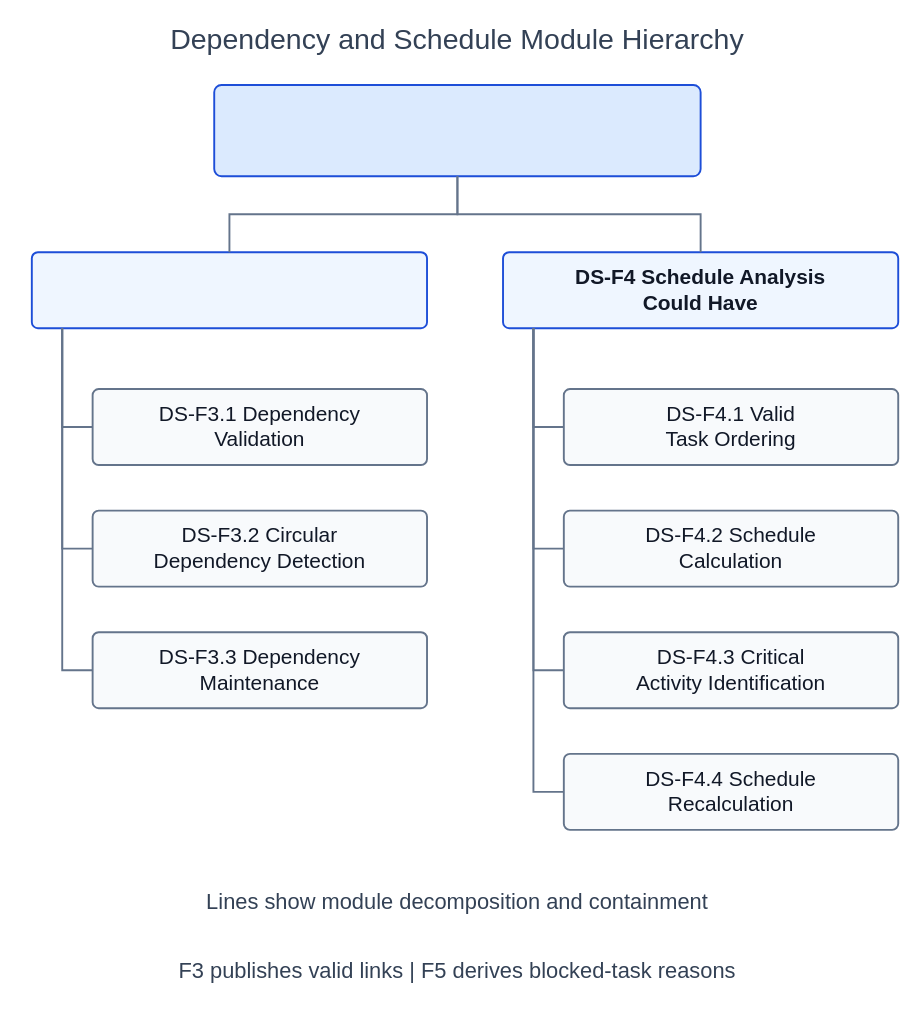
Some shapes in this 915 by 1020 pixel diagram are drawn without their labels. The shapes that lost their labels are listed below. From the top down, each one's box as (x1, y1, x2, y2) in pixels, then its label:
(213, 84, 701, 177): Dependency and Schedule Subsystem
(30, 251, 428, 329): DS-F3 Dependency Management Should Have
